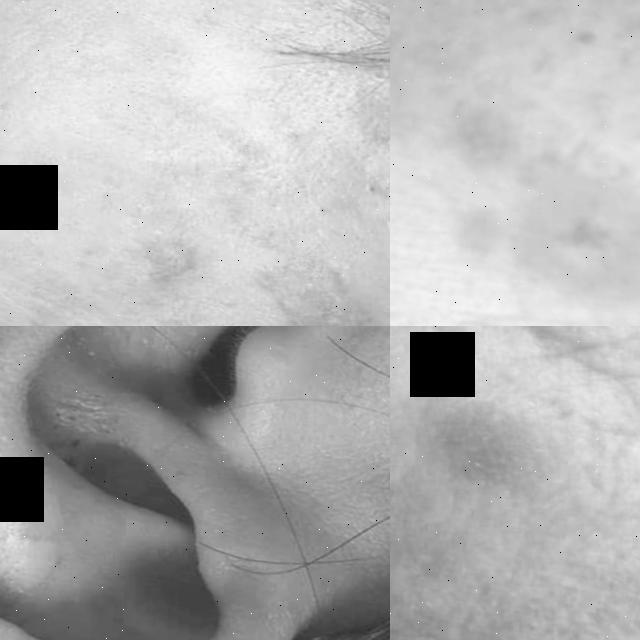lupus-detected: (402, 0, 640, 326), (0, 326, 182, 640), (390, 361, 588, 586), (91, 218, 368, 326), (309, 9, 390, 217), (364, 428, 390, 594)
